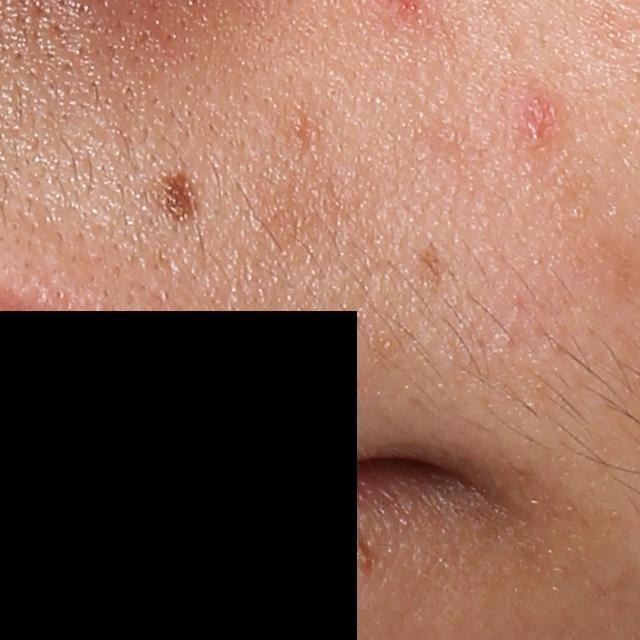nevus: (154, 171, 205, 222)
